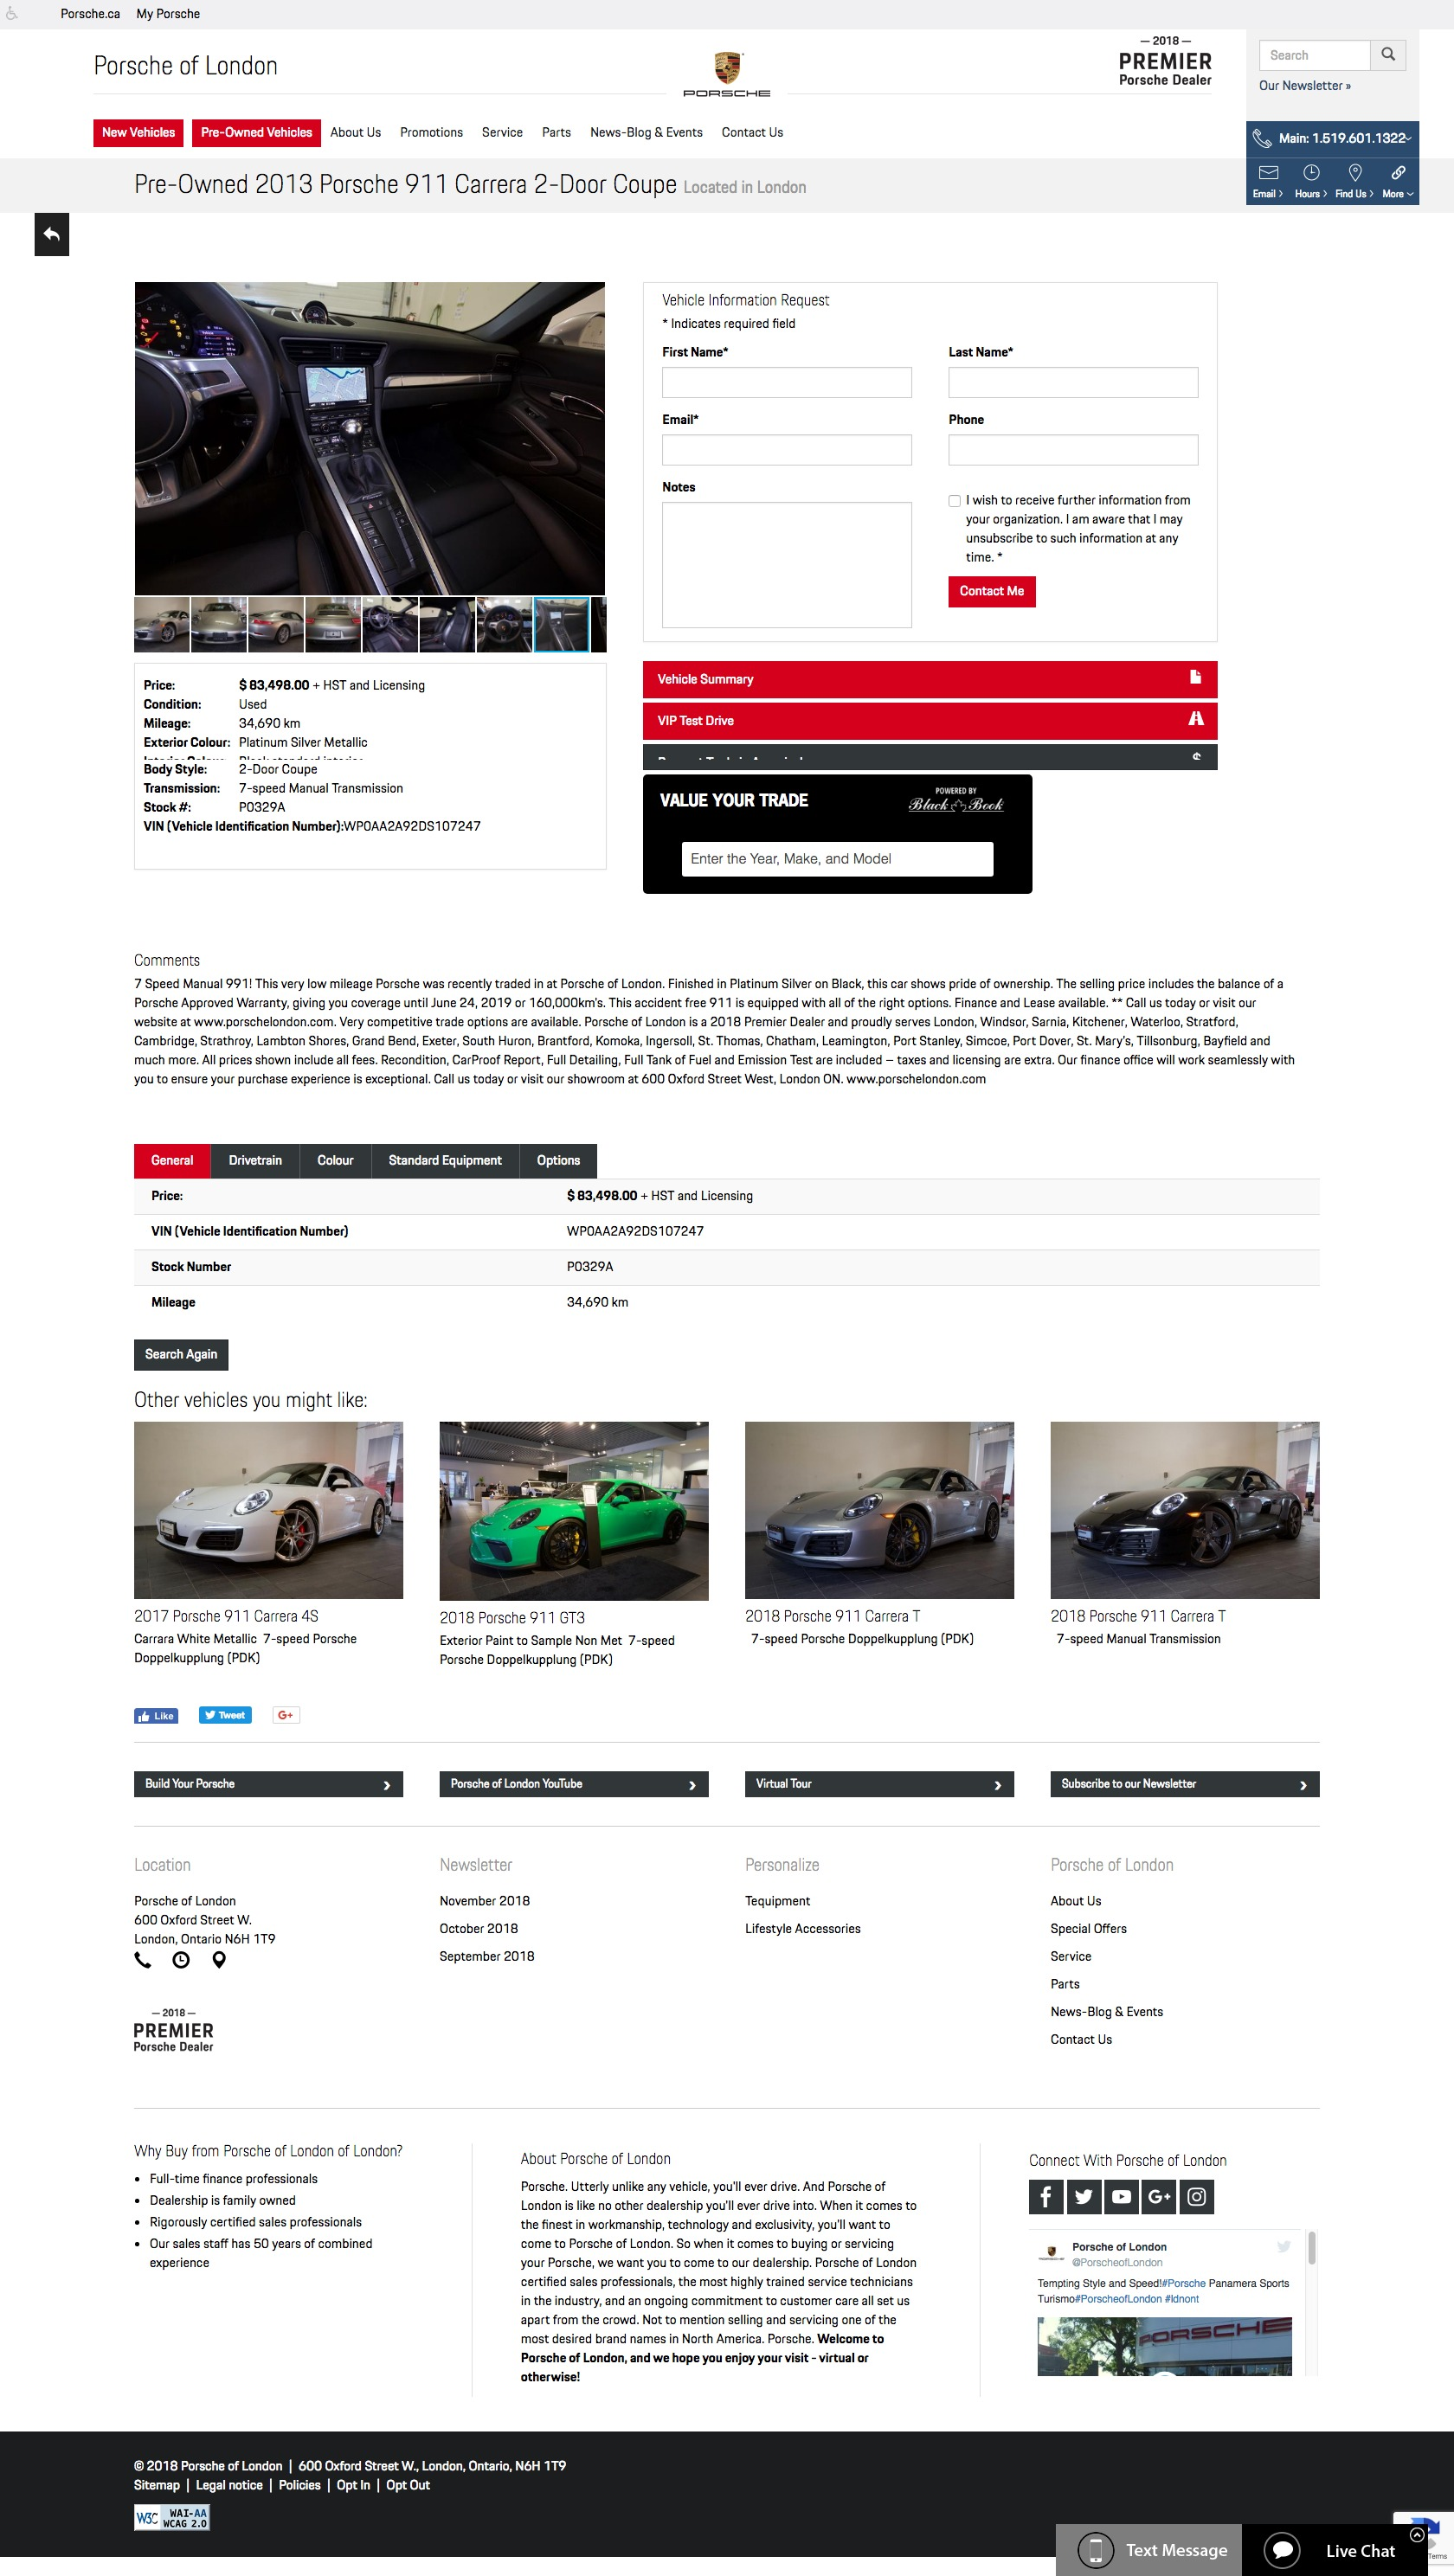car: (601, 598, 608, 655)
